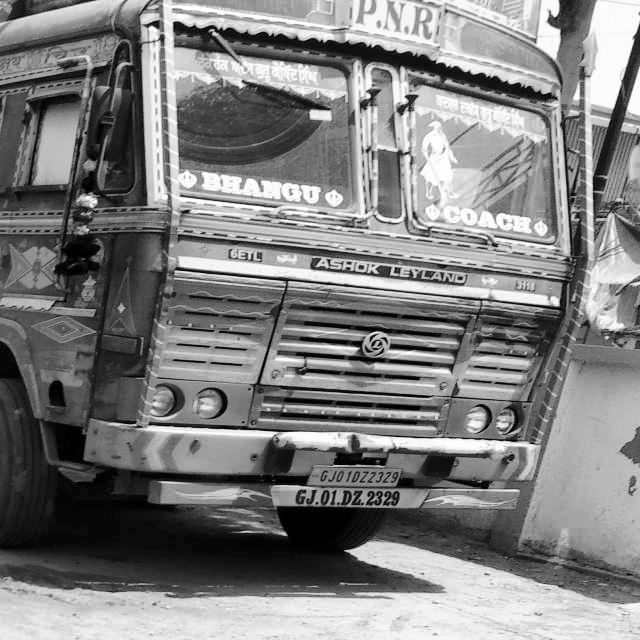HCV: (4, 5, 567, 551)
